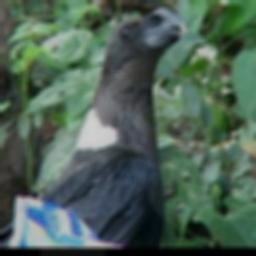Crow: (24, 8, 188, 245)
